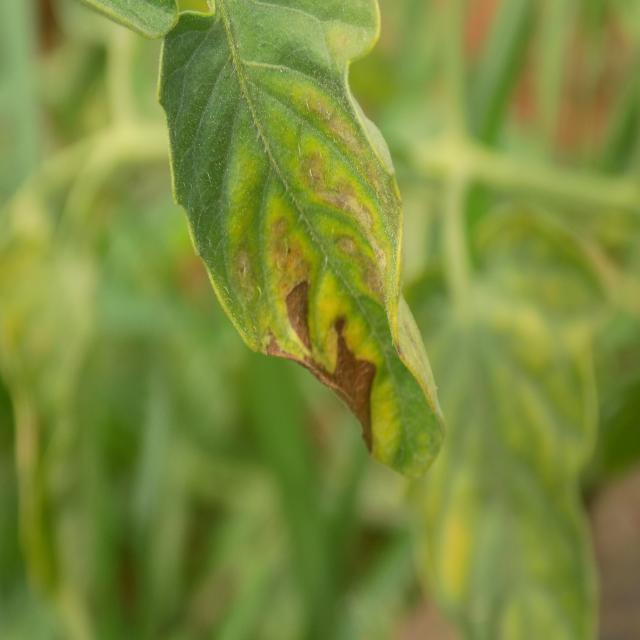tomato_early blight: (158, 0, 445, 482)
